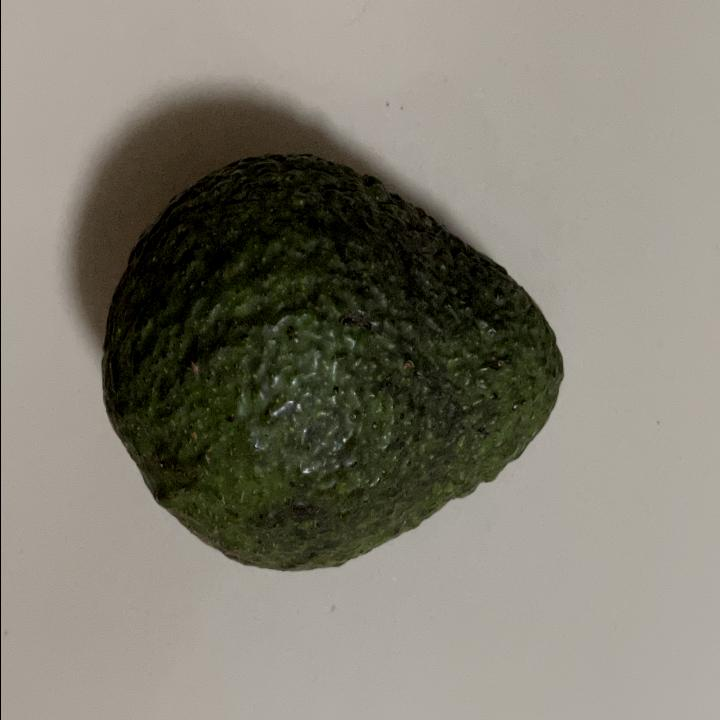Level1: (85, 138, 583, 595)
